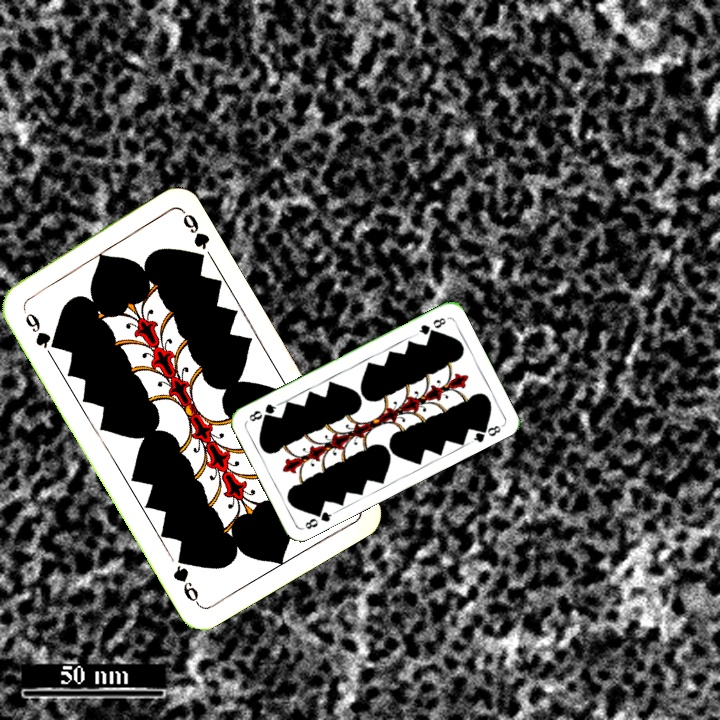G8: (300, 504, 338, 532), (415, 313, 449, 337)
G9: (18, 303, 61, 352)
